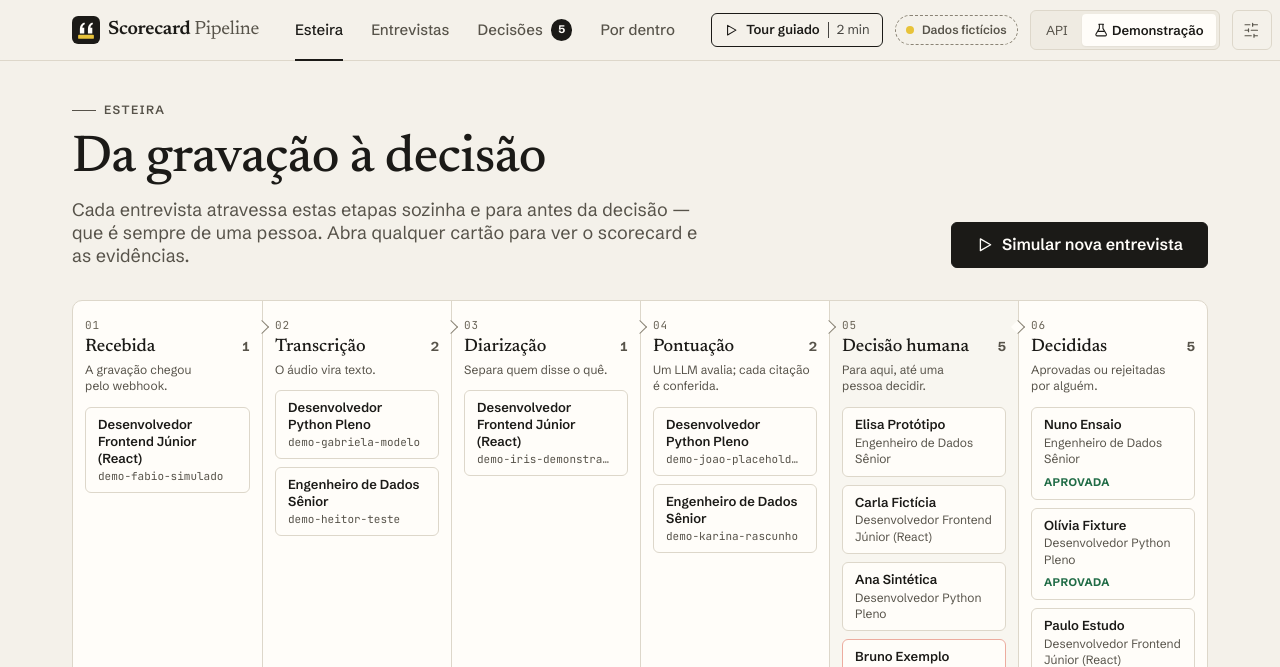
it: InterviewsProvider dataset identity › reloads and restores the seeded scenario when the demo is reset
The image size is (1280, 667).
Expected: the heading "Da gravação à decisão" is shown, [72,132,546,186]
Expected: the 3rd list item with class "bcard" is shown, [85,407,250,493]
Click the button "Simular nova entrevista": (1080, 245) [951,222,1208,268]
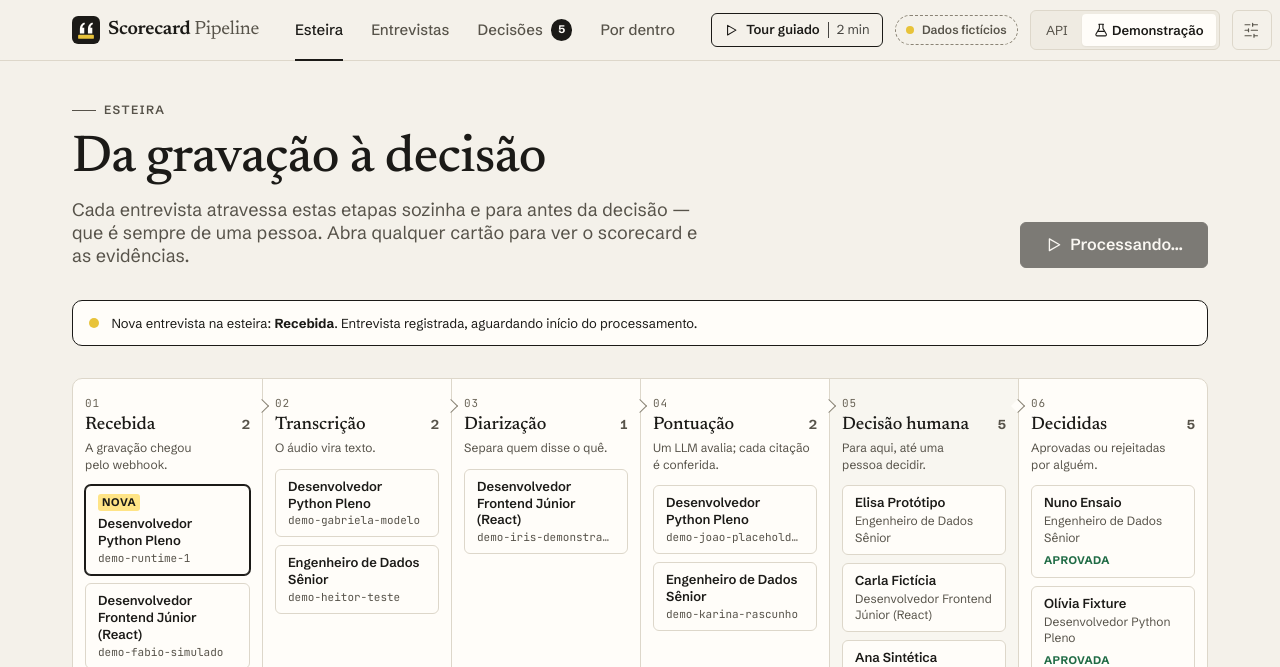
Click the button named "Opções de exibição": (1252, 30) [1232,10,1272,50]
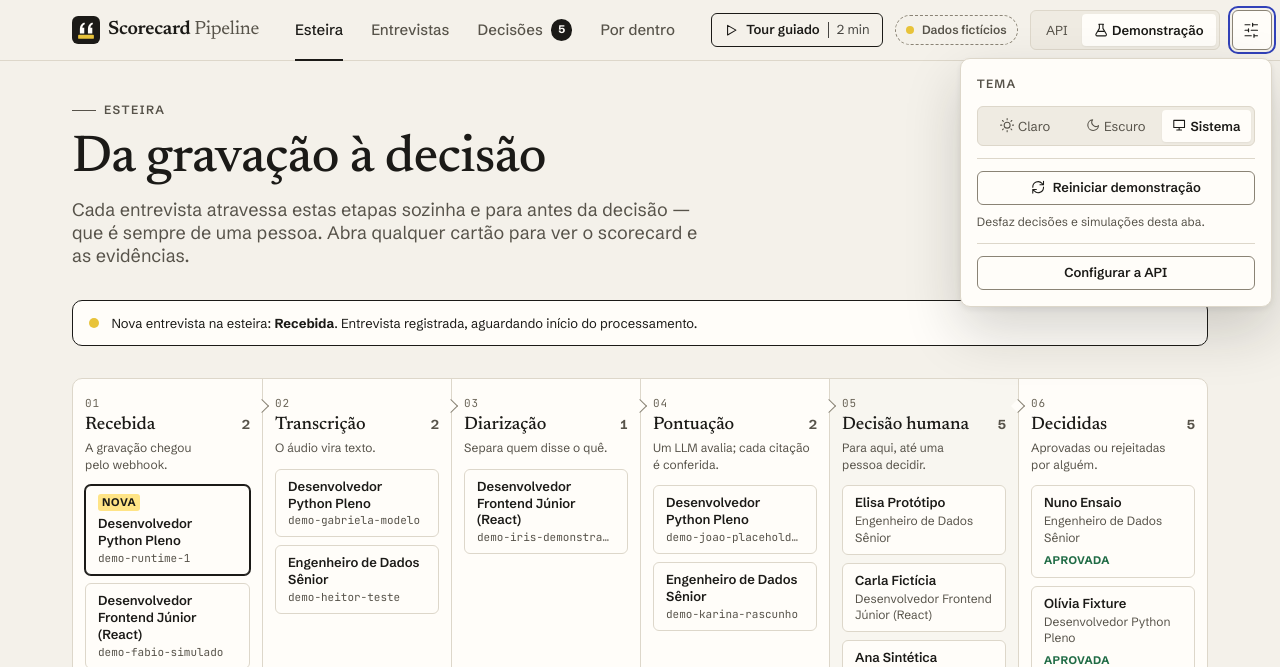
Click the button "Reiniciar demonstração": (1116, 188) [977,171,1255,205]
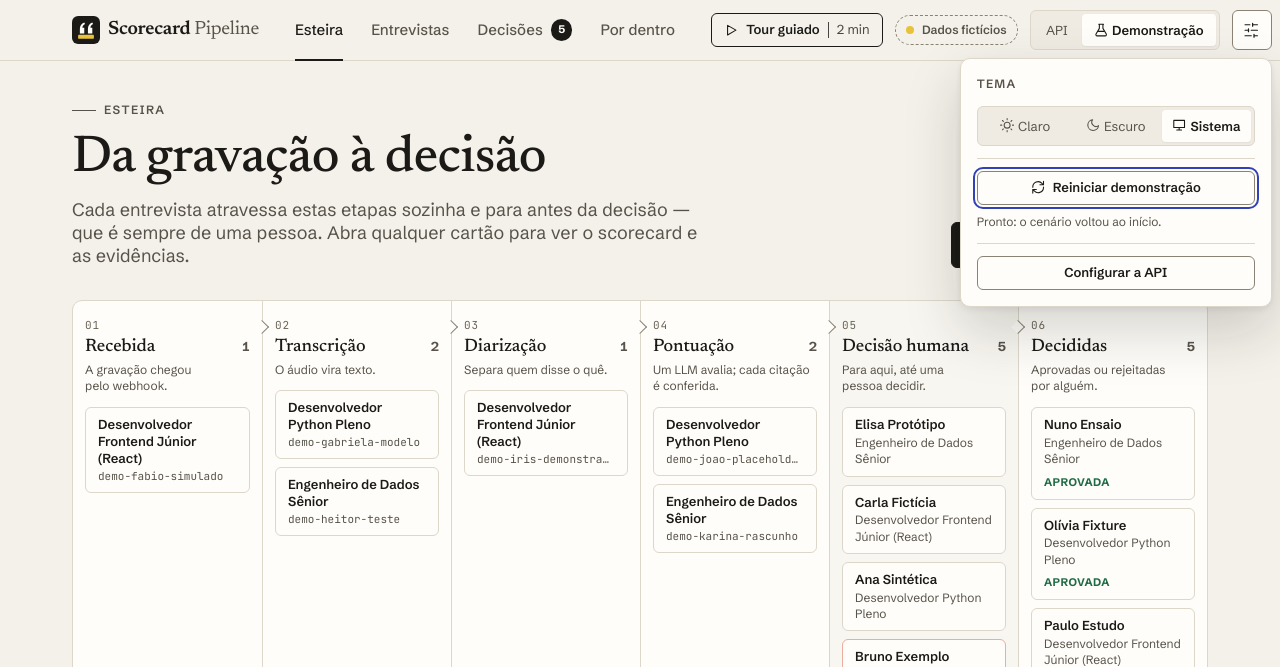
Expected: the list item with class "bcard--fresh" is gone
Expected: the button "Simular nova entrevista" is enabled, [951,222,1208,268]
